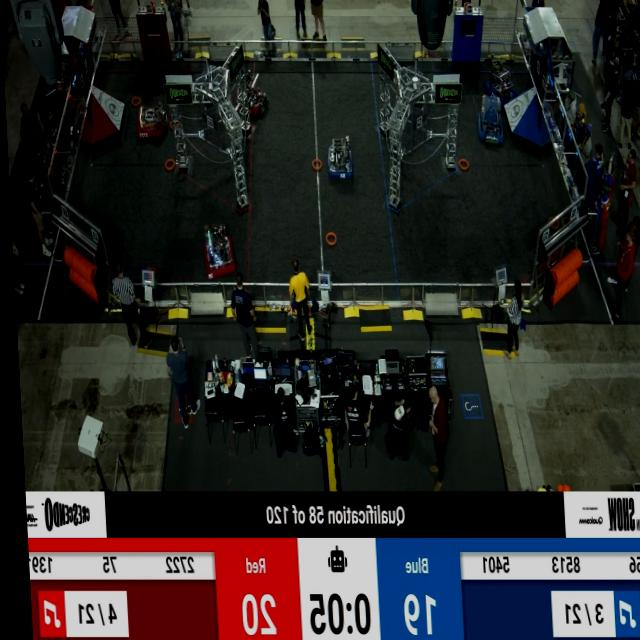Robot: (192, 217, 237, 281), (226, 63, 269, 125), (470, 88, 509, 147), (479, 55, 523, 105), (132, 97, 167, 145), (324, 134, 355, 184)
